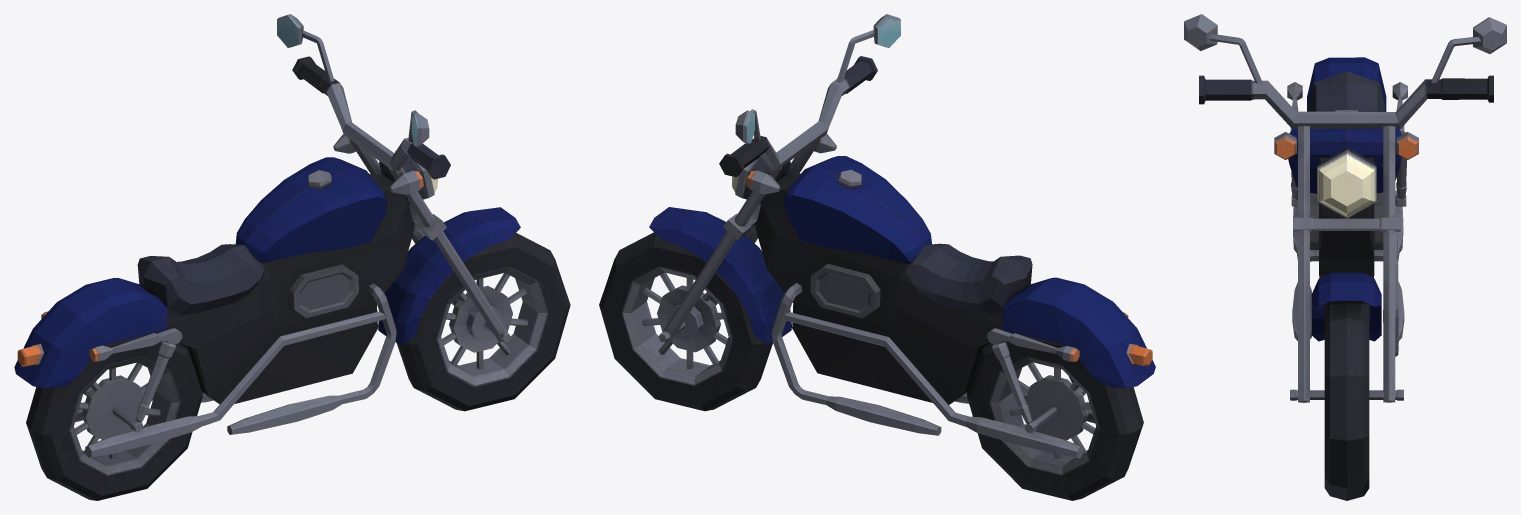
Rendered from 5_MTCnqfUTr.glb.
3 renders of one model, left to right at view 1: azimuth 30°, elevation 25°; view 2: azimuth 150°, elevation 25°; view 3: azimuth 270°, elevation 25°, orthographic. The views are drawn at different scales.
Parts seen in each view (by area): view 1: Motorcycle_mesh; view 2: Motorcycle_mesh; view 3: Motorcycle_mesh.
Boxes of the visible parts, x1,y1,x2,y2 form: Motorcycle_mesh: (14, 14, 570, 500); Motorcycle_mesh: (599, 14, 1155, 500); Motorcycle_mesh: (1184, 14, 1506, 500).
Bounding box in the file's own units: 1.54 × 1 × 0.726.
Materials: 1 (1 with a texture image).
